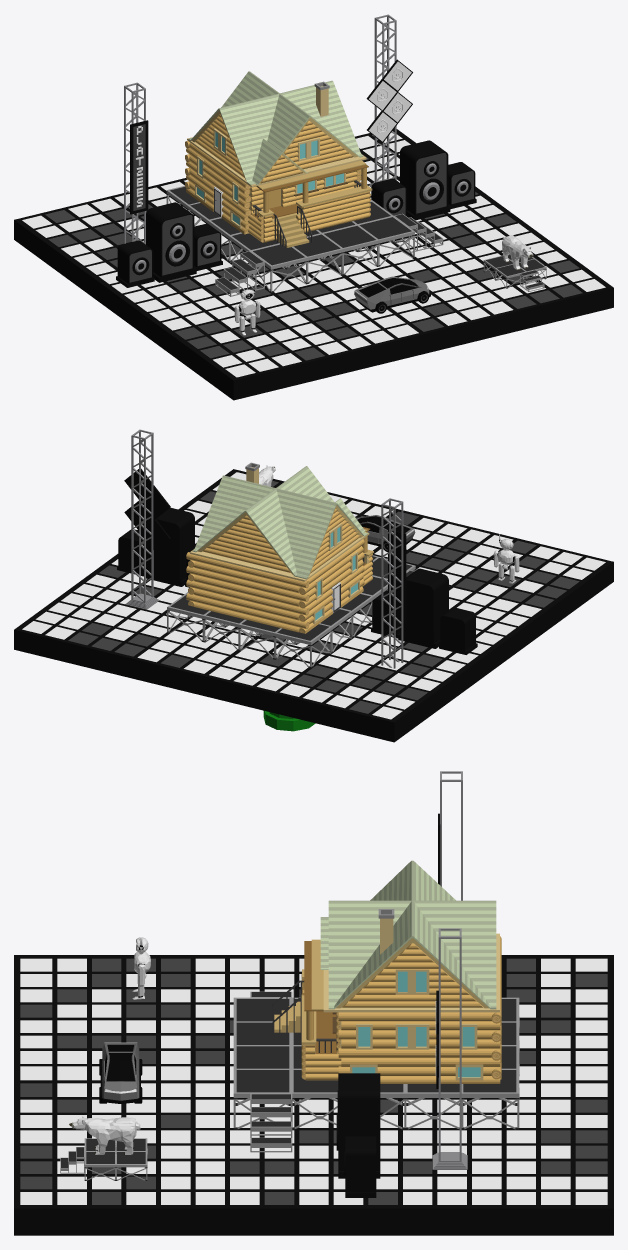
The picture shows the model from 3 angles, top to bottom: view 1: azimuth 30°, elevation 25°; view 2: azimuth 150°, elevation 25°; view 3: azimuth 270°, elevation 25°; orthographic projection. The views are drawn at different scales.
Parts seen in each view (by area): view 1: Cube.008, Cube.1516, VEHICLES_CYBERTRUCK, OBJRANDOM_PLATZEEBOT, ANIMAL_OSO_POLAR; view 2: Cube.008, Cube.1516, VEHICLES_CYBERTRUCK, OBJRANDOM_PLATZEEBOT, UNDERGROUND_PIPES; view 3: Cube.008, Cube.1516, VEHICLES_CYBERTRUCK, ANIMAL_OSO_POLAR, OBJRANDOM_PLATZEEBOT.
Part boxes in pixels (box(x1,y1,x2,y2)): Cube.008: box(14, 14, 613, 400); Cube.1516: box(185, 71, 372, 248); VEHICLES_CYBERTRUCK: box(354, 276, 430, 313); OBJRANDOM_PLATZEEBOT: box(234, 284, 260, 335); ANIMAL_OSO_POLAR: box(502, 235, 533, 270); Cube.008: box(14, 429, 613, 742); Cube.1516: box(186, 462, 373, 633); VEHICLES_CYBERTRUCK: box(356, 515, 415, 552); OBJRANDOM_PLATZEEBOT: box(493, 534, 519, 583); UNDERGROUND_PIPES: box(263, 711, 315, 731); Cube.008: box(14, 771, 613, 1235); Cube.1516: box(272, 860, 501, 1083); VEHICLES_CYBERTRUCK: box(99, 1042, 142, 1103); ANIMAL_OSO_POLAR: box(69, 1115, 140, 1154); OBJRANDOM_PLATZEEBOT: box(132, 937, 150, 999).
Size of the model in its own units: 4000 by 2555 by 4000.
Materials: 37 (2 with a texture image).
